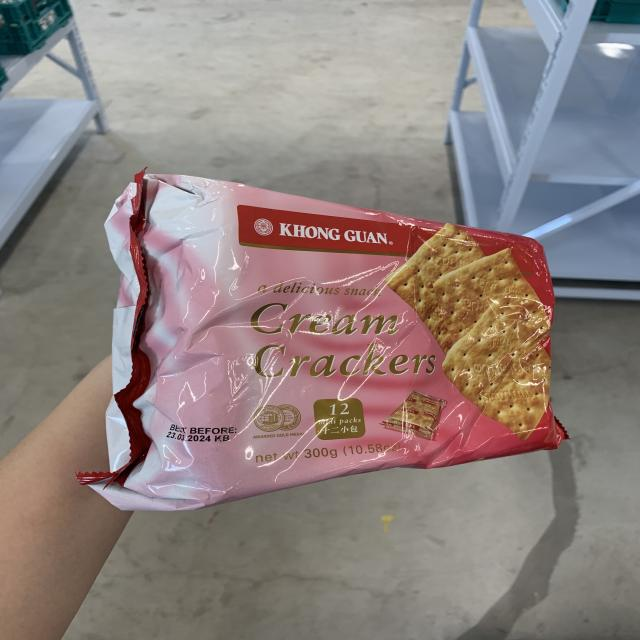object_name: (119, 189, 556, 458)
